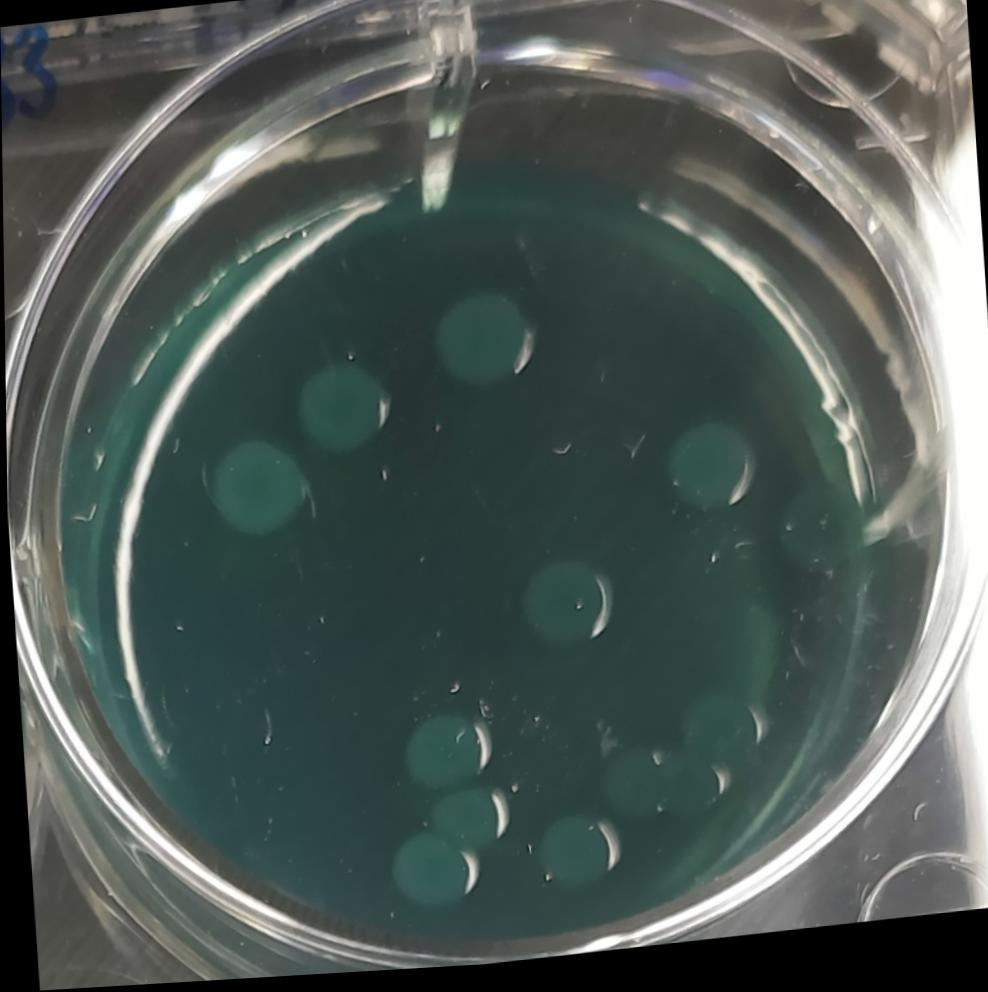pddamselae: (422, 279, 540, 401), (591, 741, 730, 835), (207, 435, 309, 553), (655, 418, 762, 530), (288, 358, 397, 466), (511, 558, 614, 662), (769, 481, 874, 582), (380, 829, 478, 923), (527, 808, 622, 903), (400, 710, 493, 800), (673, 691, 760, 782), (426, 782, 513, 870)
